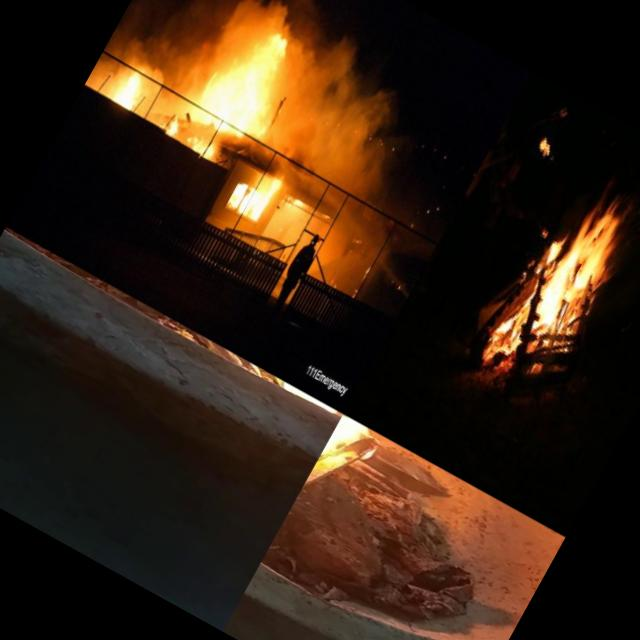fire: (470, 164, 640, 389), (194, 32, 288, 142), (226, 160, 286, 228), (106, 62, 152, 115), (154, 103, 188, 147), (185, 131, 222, 166)
smoke: (256, 22, 439, 191), (114, 0, 262, 104), (223, 0, 337, 52)
